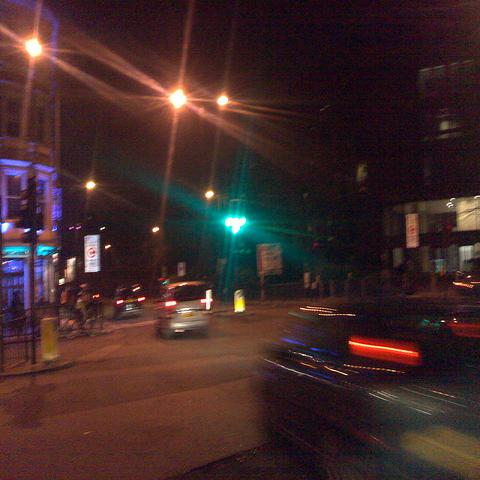car: (250, 283, 479, 479), (154, 283, 208, 329), (112, 285, 145, 318)
